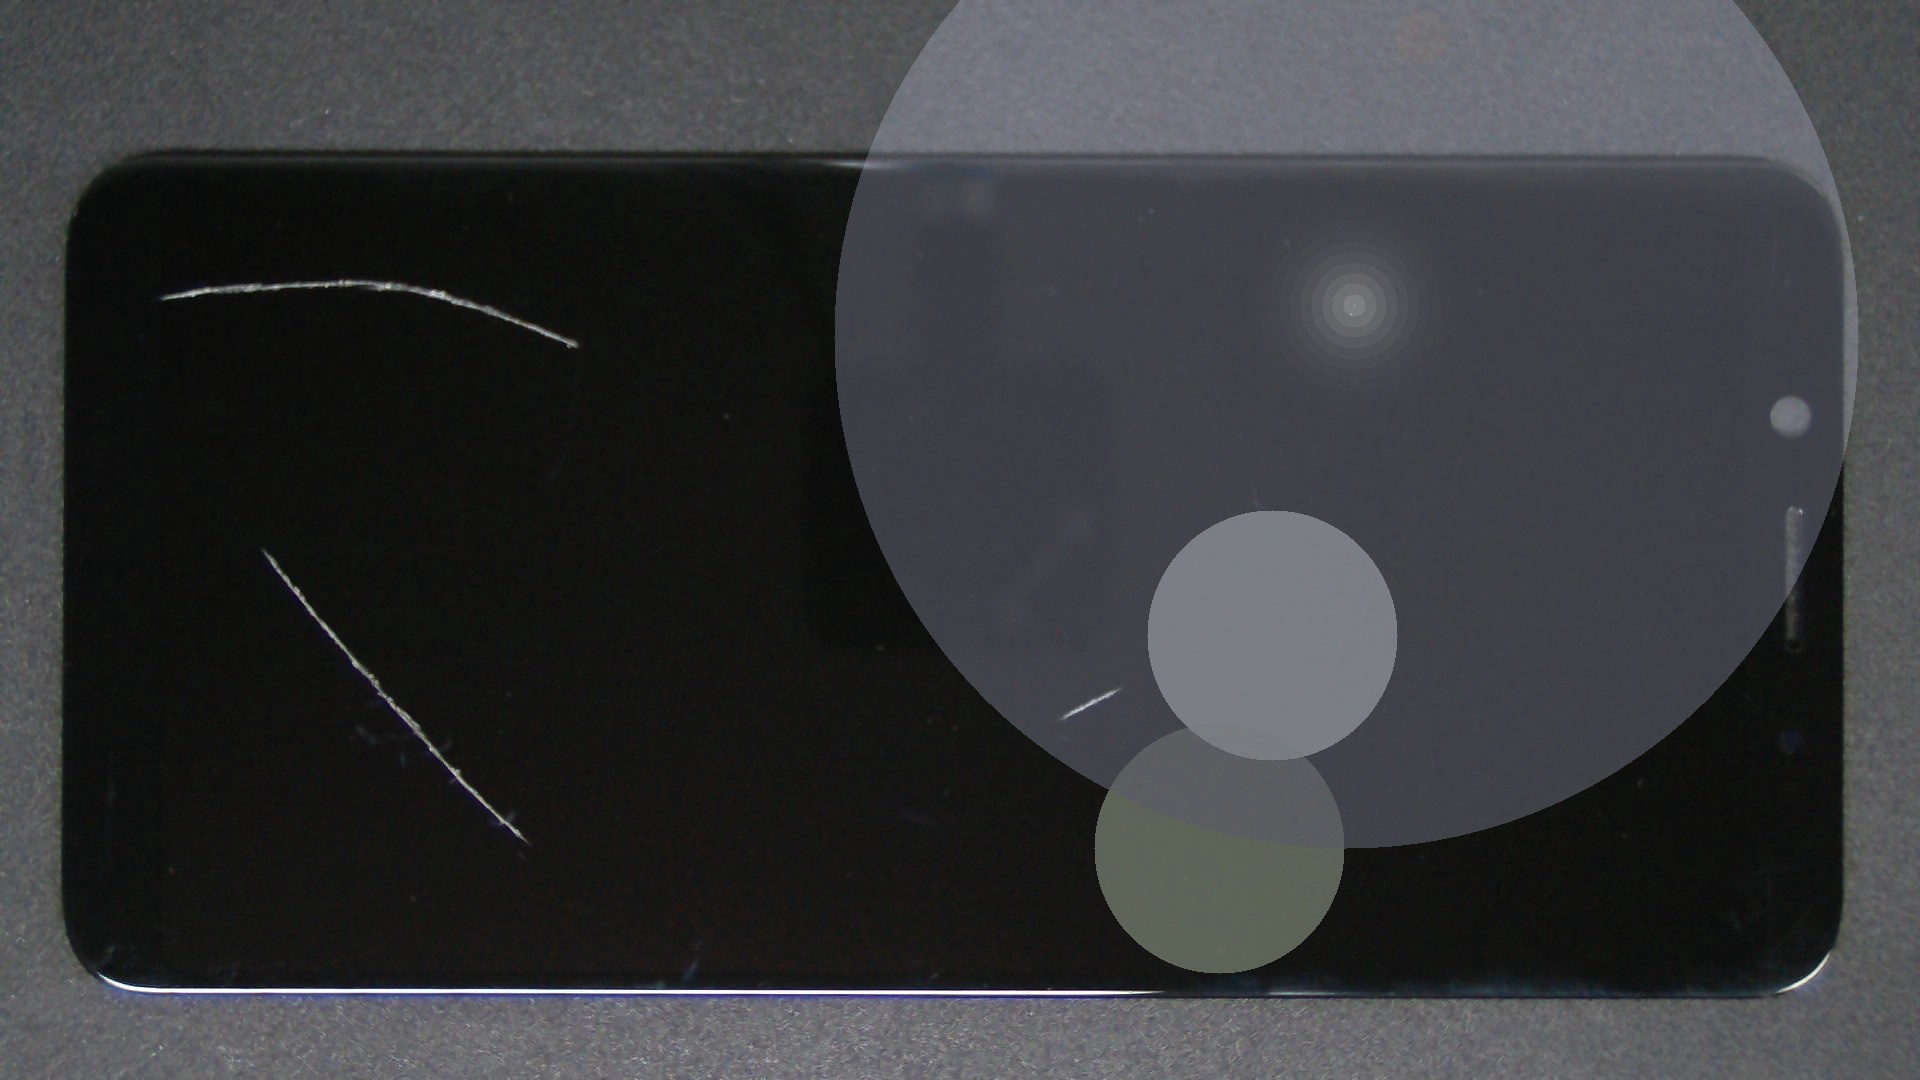oil: (560, 343, 1681, 1031), (132, 274, 394, 824), (174, 138, 518, 418)
